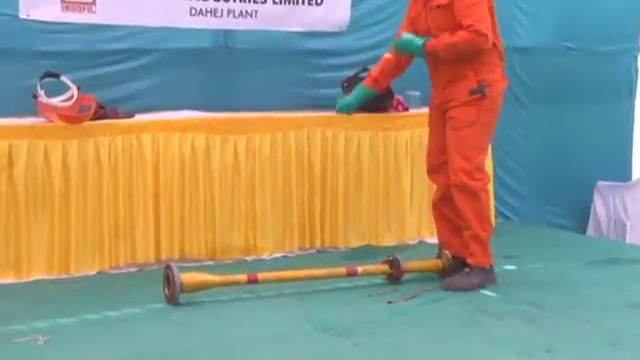person: (350, 1, 506, 305)
